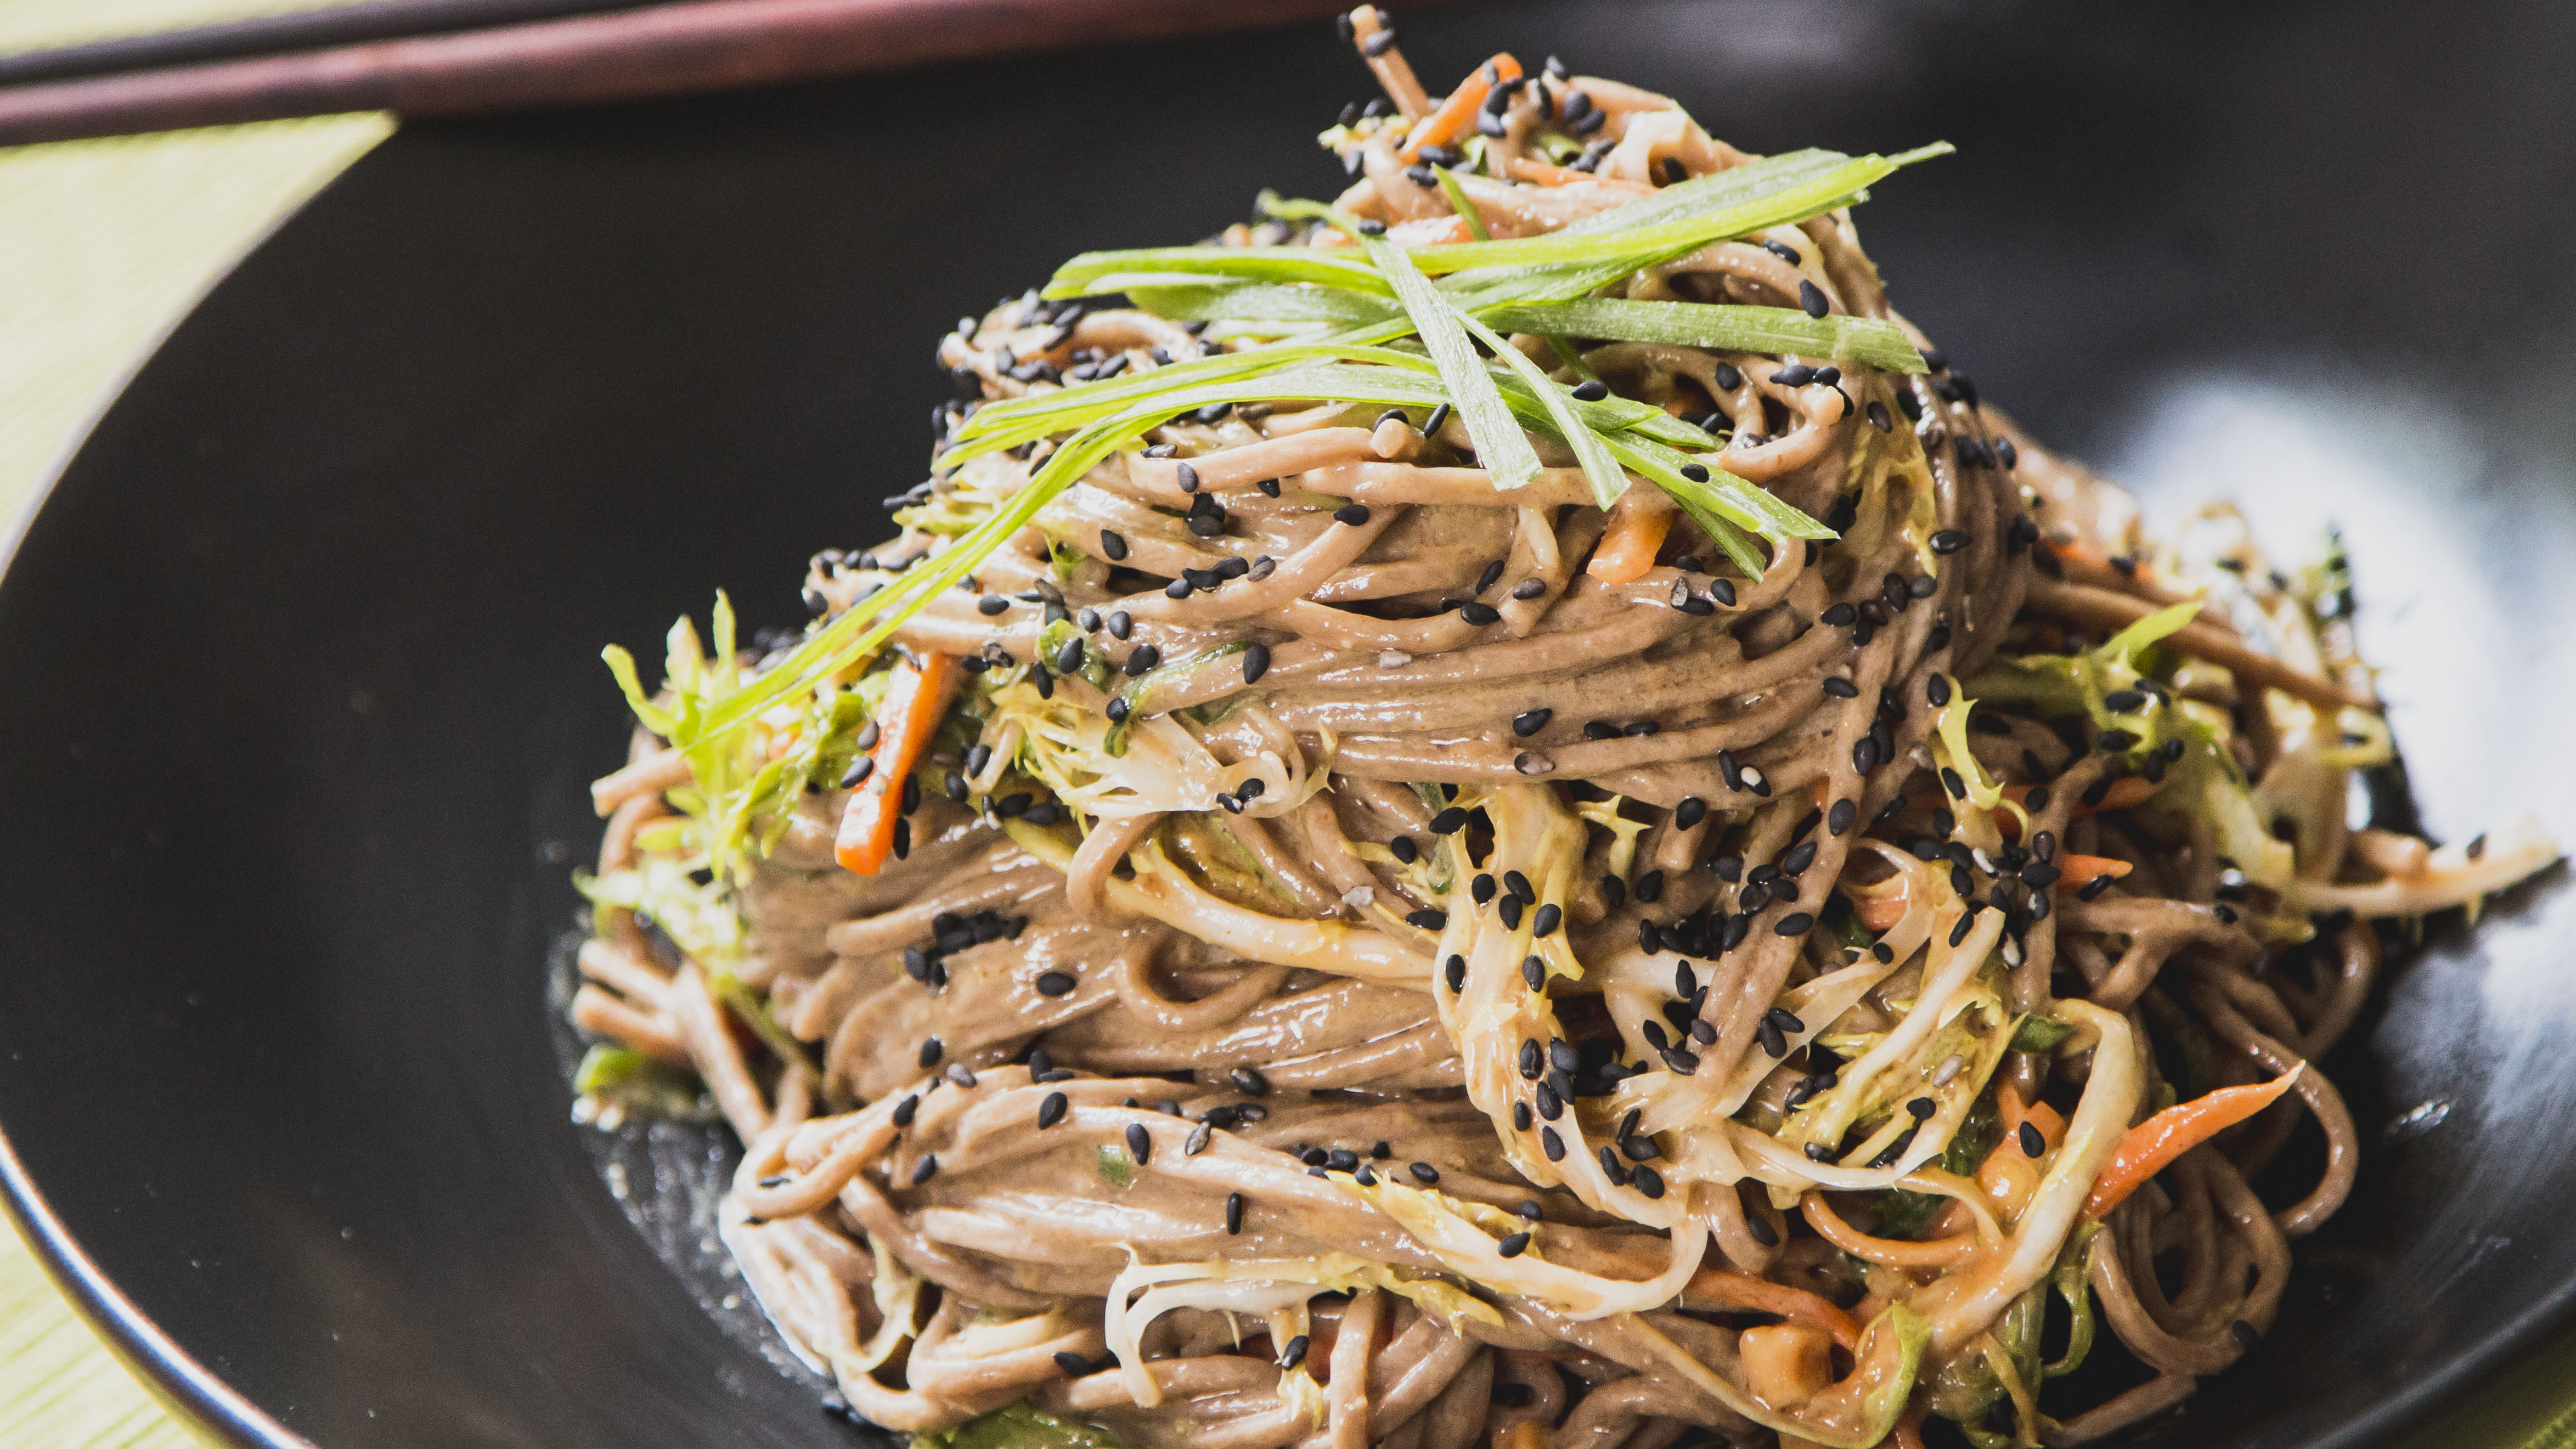Soba: (538, 37, 2511, 1415)
